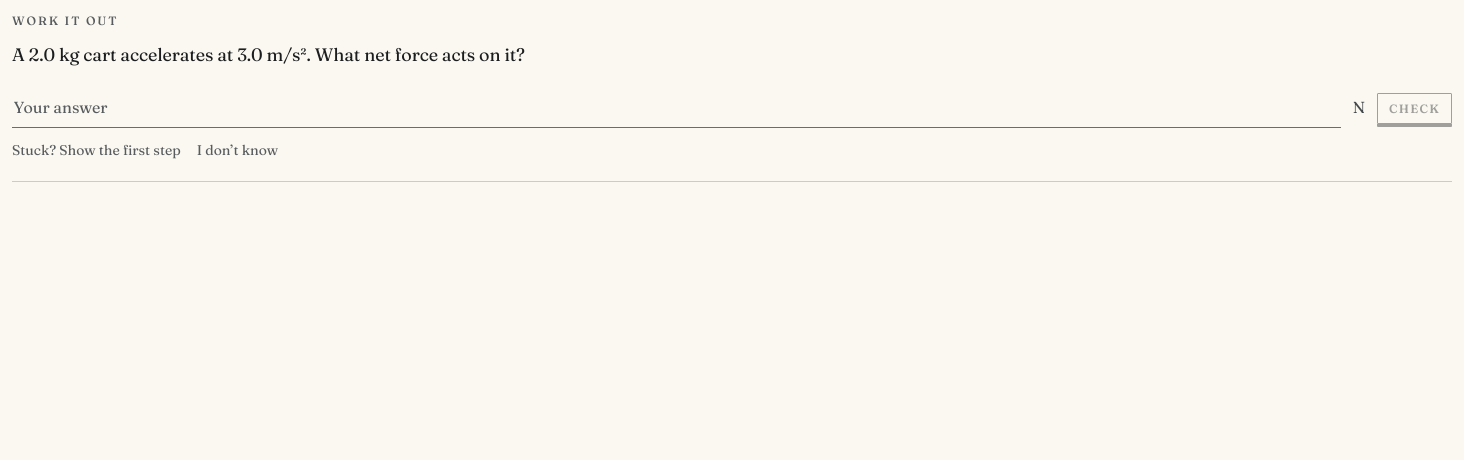
Test: ProblemCard, a number to check › checks a right answer, shows the solution and the method
This screenshot has width=1464, height=460.
Type "6.0" into the field named "Your answer, in N" at (676, 108), box x1=12 y1=87 x2=1341 y2=128
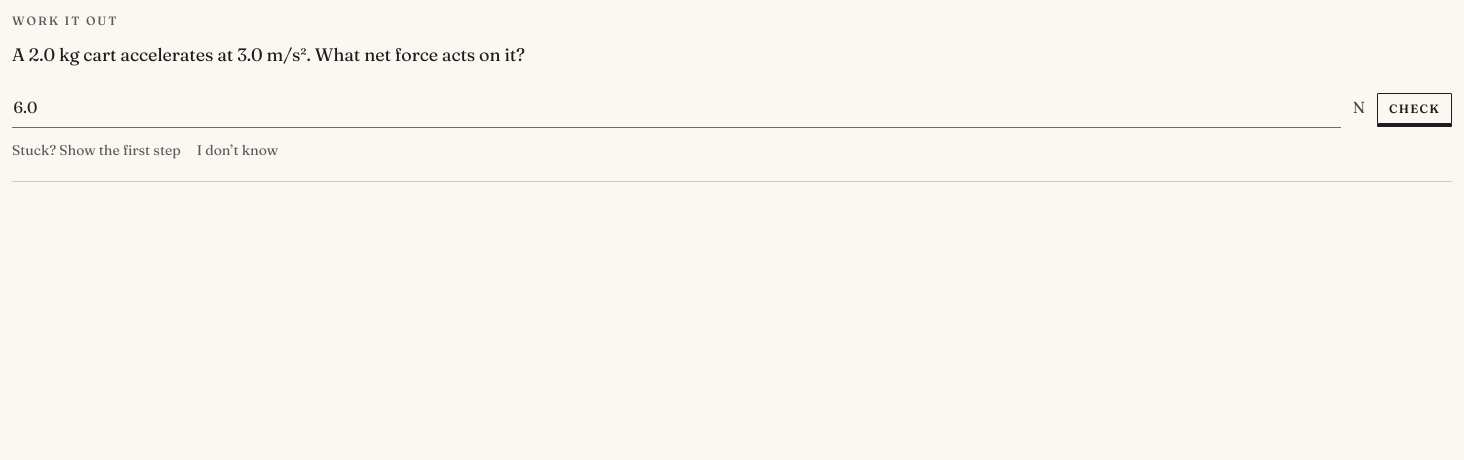
Click the button "Check" at (1415, 108), box x1=1377 y1=93 x2=1452 y2=124
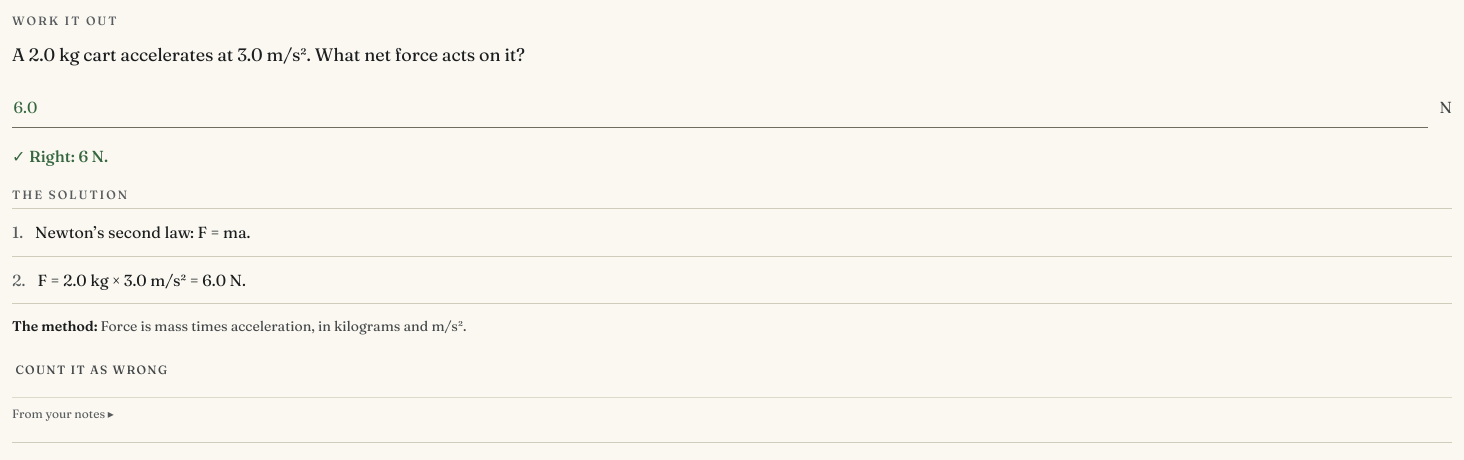
Expected: the text "✓ Right: 6 N." is shown, x1=12 y1=146 x2=108 y2=166
Expected: the text "F = 2.0 kg × 3.0 m/s² = 6.0 N." is shown, x1=37 y1=267 x2=246 y2=293
Expected: the text "Force is mass times acceleration" is shown, x1=100 y1=317 x2=466 y2=335
